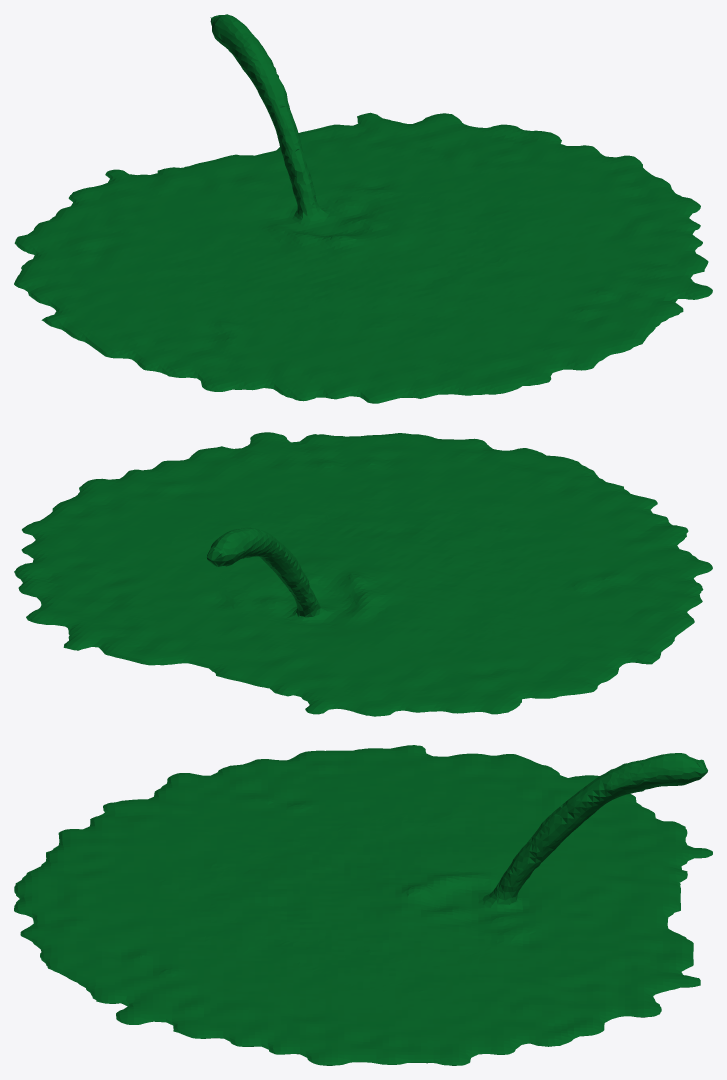
File: fluid_52.fbx
3 renders of one model, top to bottom at view 1: azimuth 30°, elevation 25°; view 2: azimuth 150°, elevation 25°; view 3: azimuth 270°, elevation 25°, orthographic. The views are drawn at different scales.
Visible parts, largest first — view 1: Cube; view 2: Cube; view 3: Cube.
Boxes of the visible parts, left/top/right/bottom form: Cube: left=14, top=14, right=712, bottom=403; Cube: left=14, top=432, right=712, bottom=716; Cube: left=14, top=745, right=712, bottom=1065.
Size of the model in its own units: 778 by 177 by 719.
